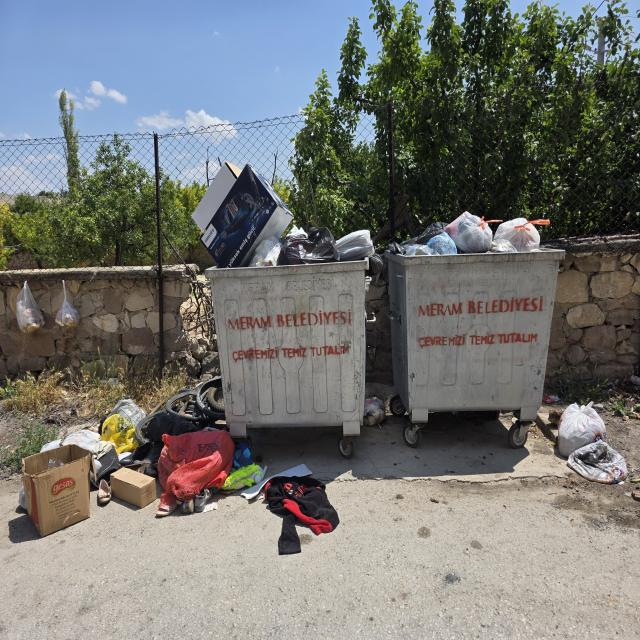garbage: (20, 374, 226, 539), (188, 162, 378, 267), (232, 447, 339, 556), (393, 215, 558, 262), (552, 400, 626, 484), (11, 278, 48, 341), (53, 280, 84, 338), (364, 386, 388, 431)
